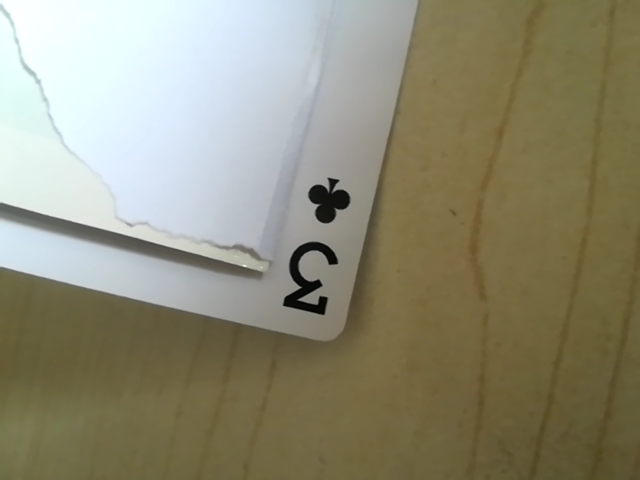mh 3: (250, 161, 370, 351)
